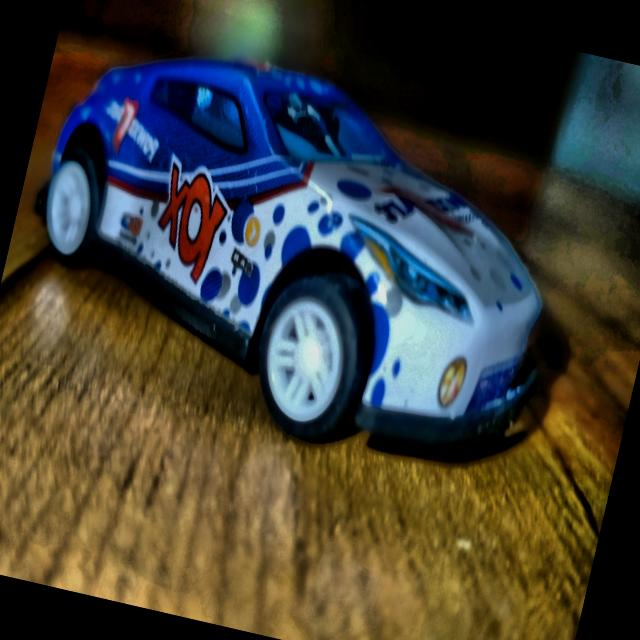Car: (1, 24, 588, 486)
